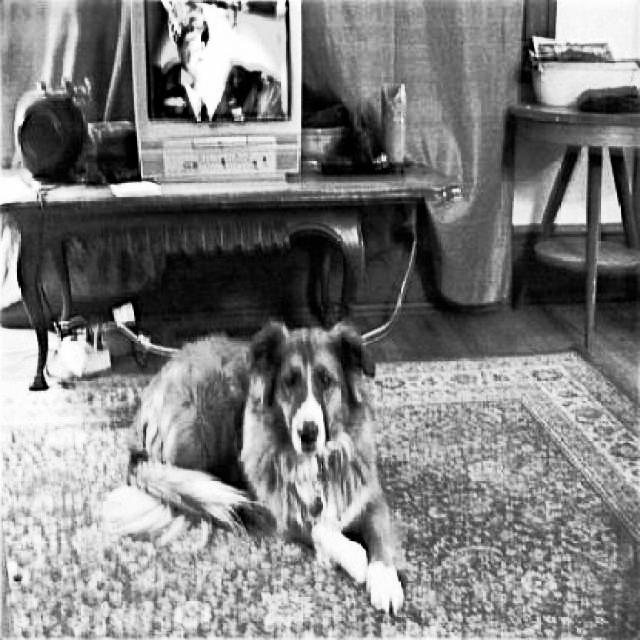Dog: (124, 310, 407, 618)
